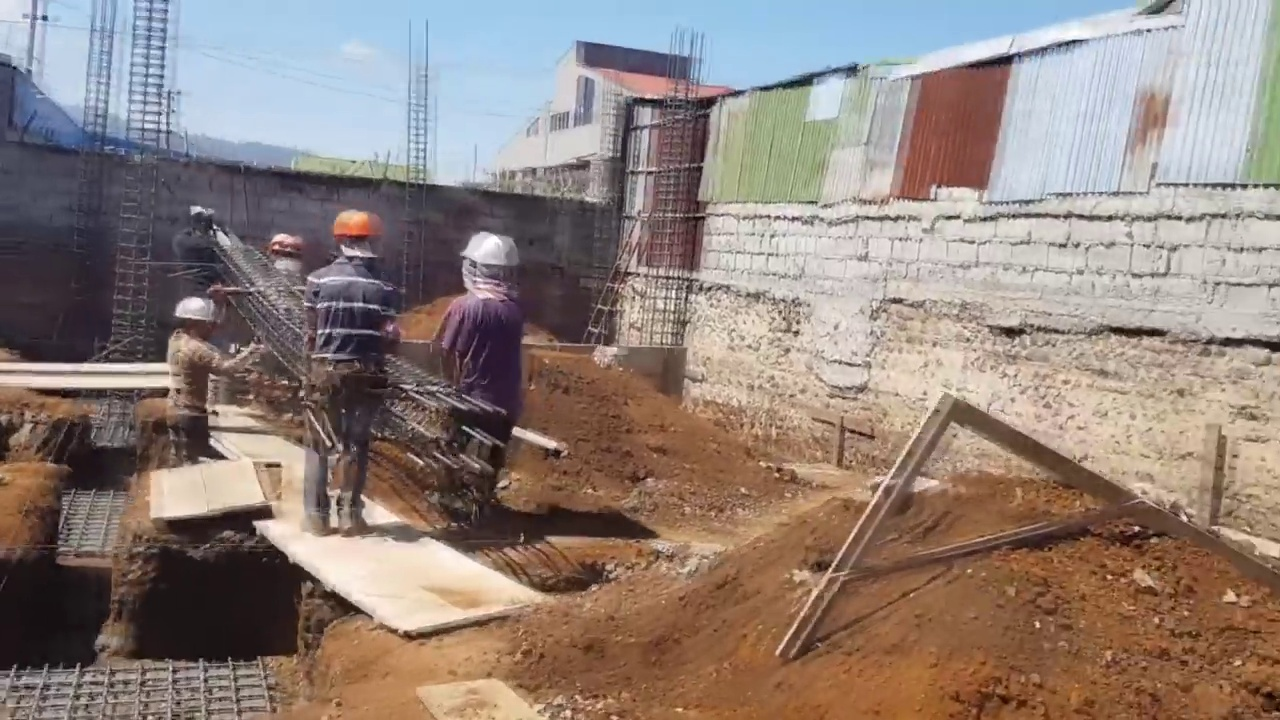helmet: (331, 205, 388, 239), (173, 296, 216, 323)
helmet-off: (187, 204, 215, 233)
helmet-on: (458, 233, 522, 301), (330, 213, 388, 269), (173, 296, 216, 344)
person: (303, 205, 397, 539), (426, 233, 521, 532), (163, 296, 265, 471), (171, 200, 223, 299)
